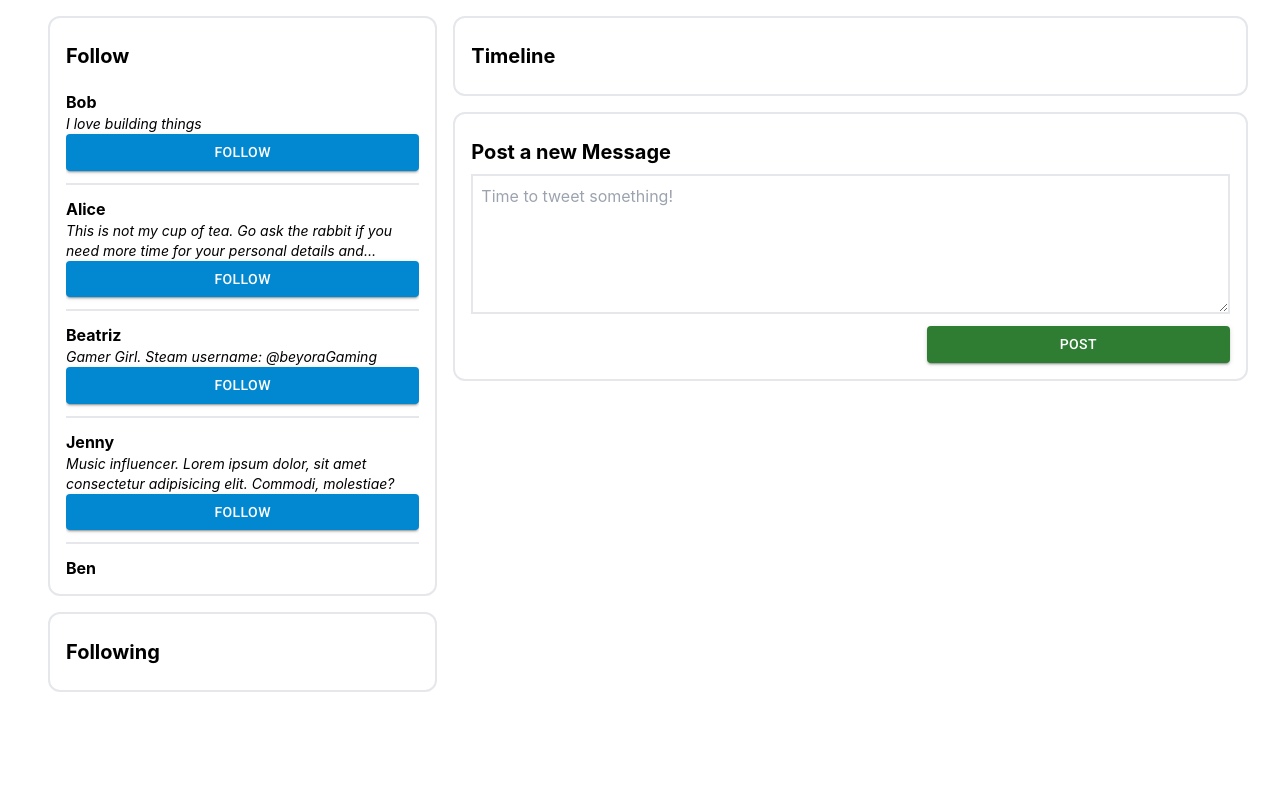
Test case: Followers use cases › Follow and Unfollow Users - Followed Box should have exact items
Step 1. Click the button "Follow" below "I love building things" → coordinates (243, 153), box [66, 134, 419, 171]
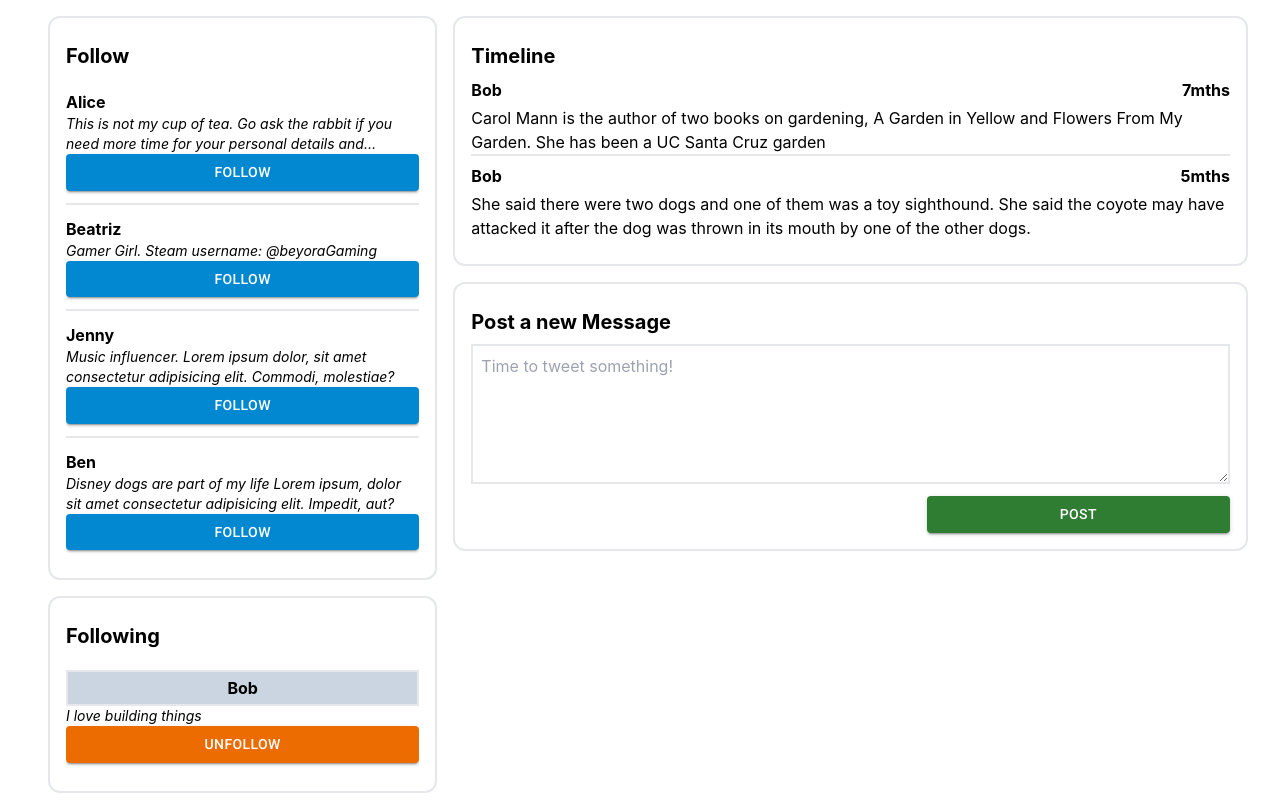
Step 2. Click the button "Follow" below "Ben" → coordinates (243, 533), box [66, 514, 419, 551]
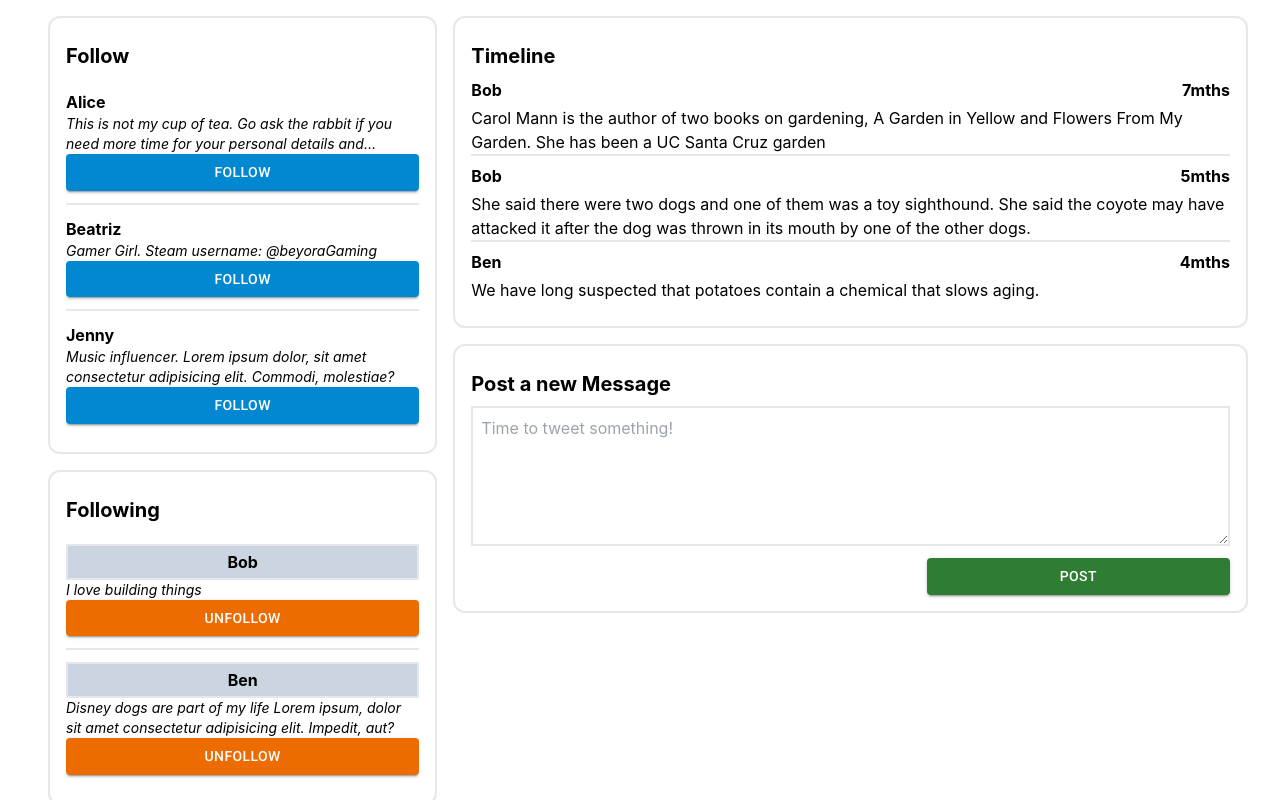
Step 3. Click the button "Unfollow" below "I love building things" → coordinates (243, 619), box [66, 600, 419, 637]
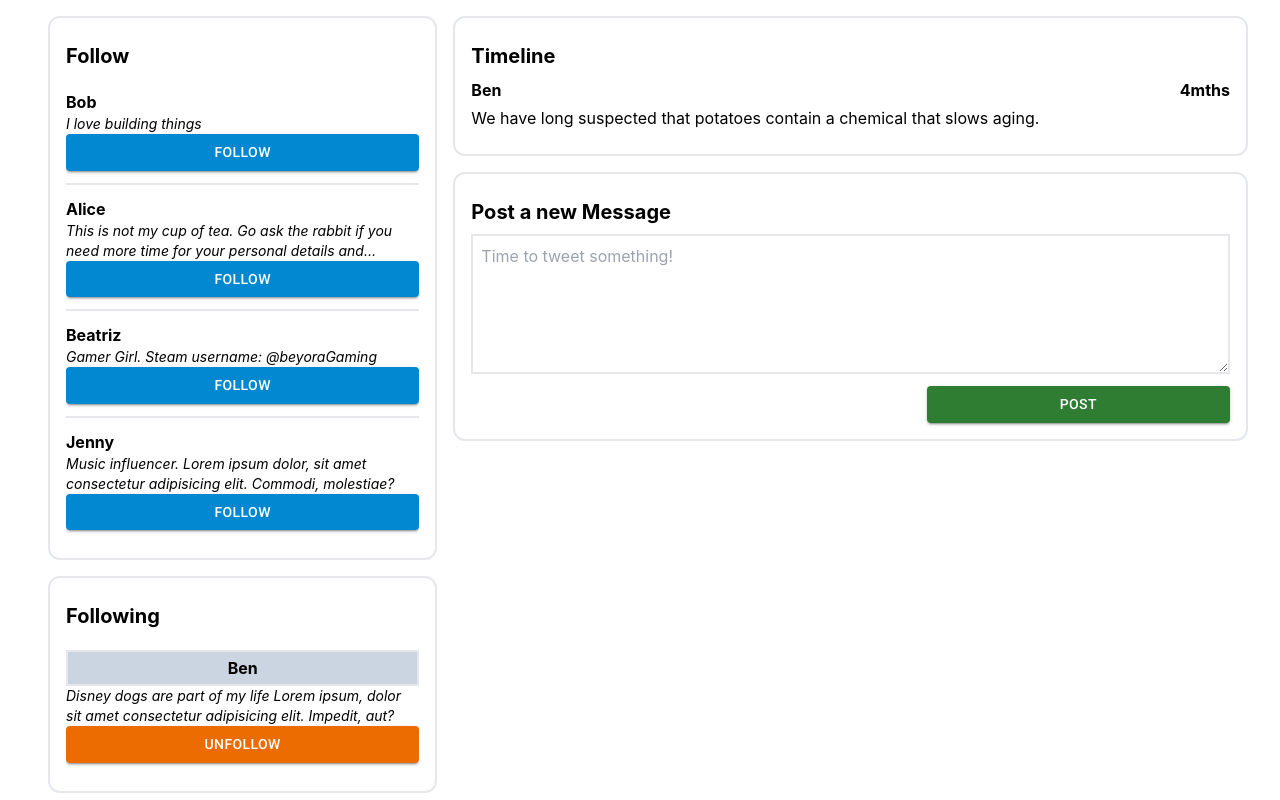
Step 4. Click the button "Unfollow" → coordinates (243, 745), box [66, 726, 419, 763]
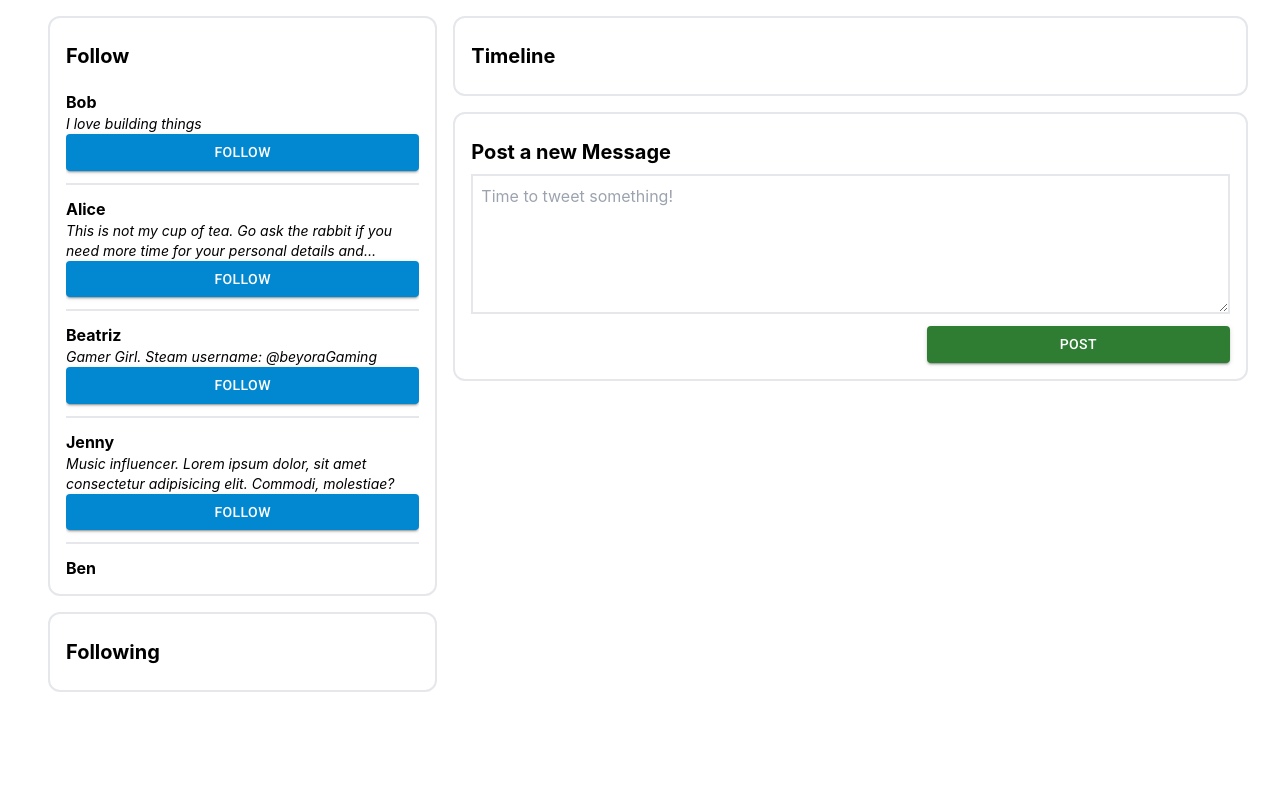
Result: the button "Unfollow" is gone
